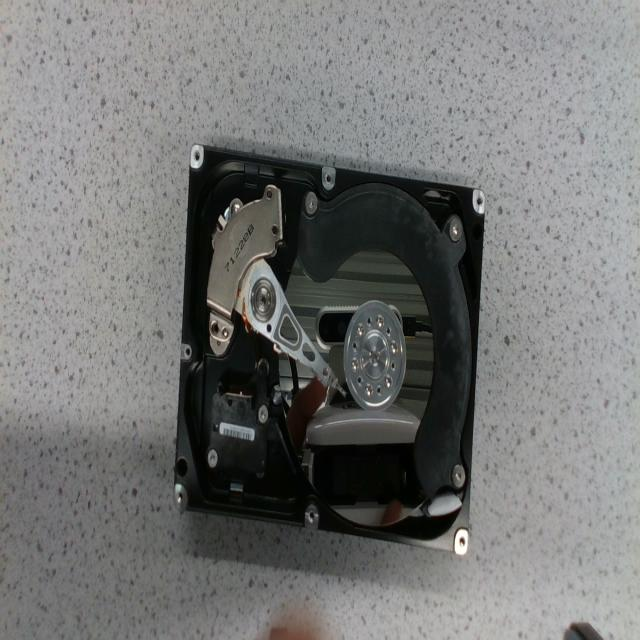actuator arm: (238, 260, 332, 384)
actuator axis: (251, 279, 276, 323)
case: (174, 141, 486, 554)
magnet: (207, 185, 282, 320)
pcb connector: (206, 391, 268, 476)
platter: (277, 251, 435, 523)
platter holder: (344, 300, 406, 407)
platter protector: (297, 183, 470, 500)
screw: (207, 448, 218, 468), (258, 404, 267, 424), (365, 383, 373, 397), (385, 375, 393, 389), (377, 314, 384, 330), (352, 357, 359, 371), (391, 341, 398, 354), (357, 323, 364, 335)
